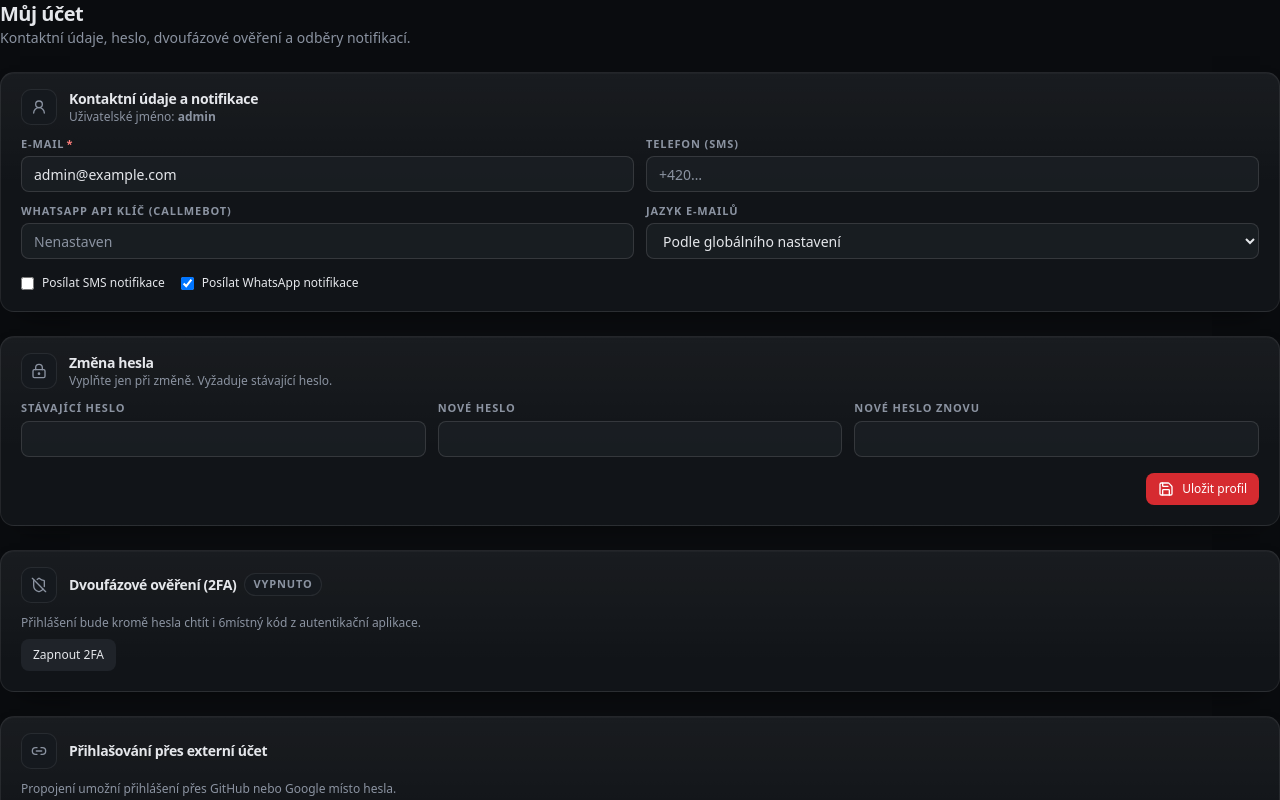
ProfilePage subscriptions › shows the WhatsApp boxes of the switch the profile save stored
The width and height of the screenshot is (1280, 800).
Click the checkbox labelled "Posílat WhatsApp notifikace" at [187, 283], box x1=181 y1=277 x2=194 y2=290
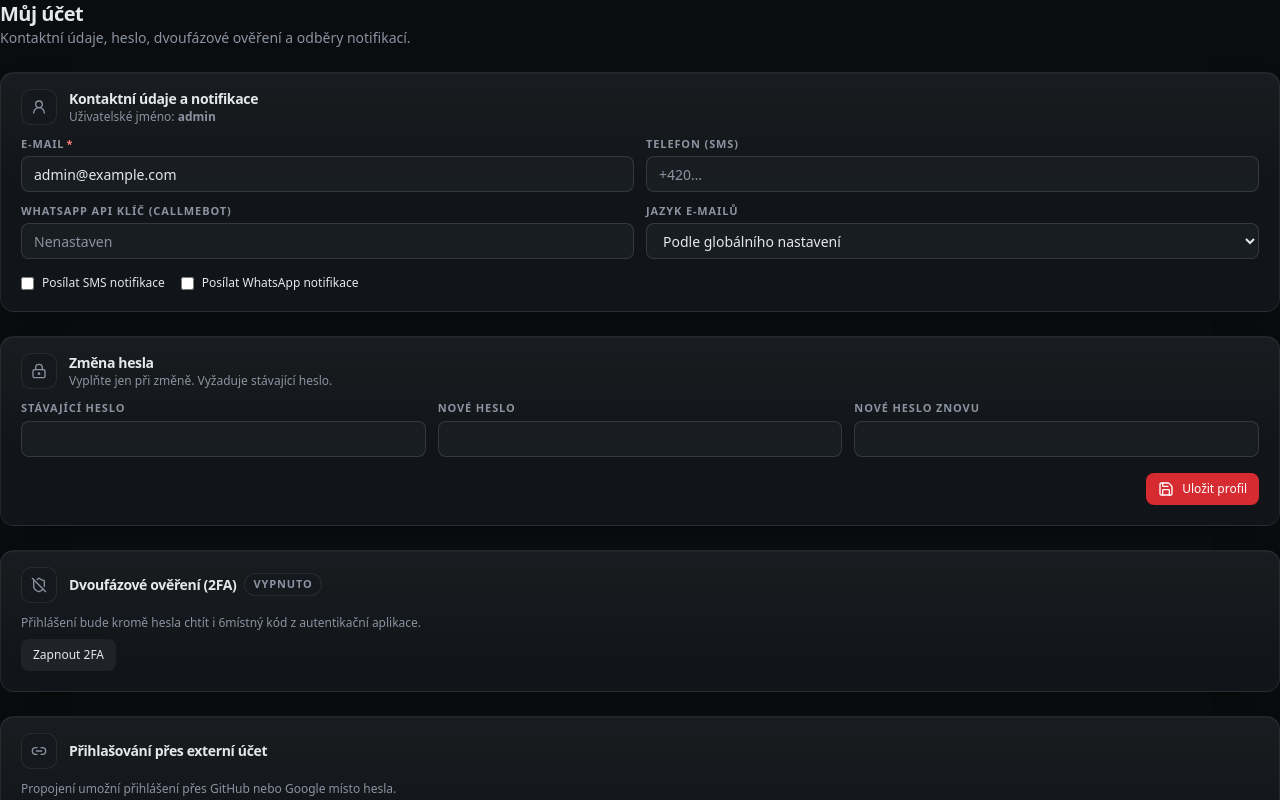
Click the button "Uložit profil" at [1203, 489], box x1=1146 y1=473 x2=1259 y2=505
(page scrolled)
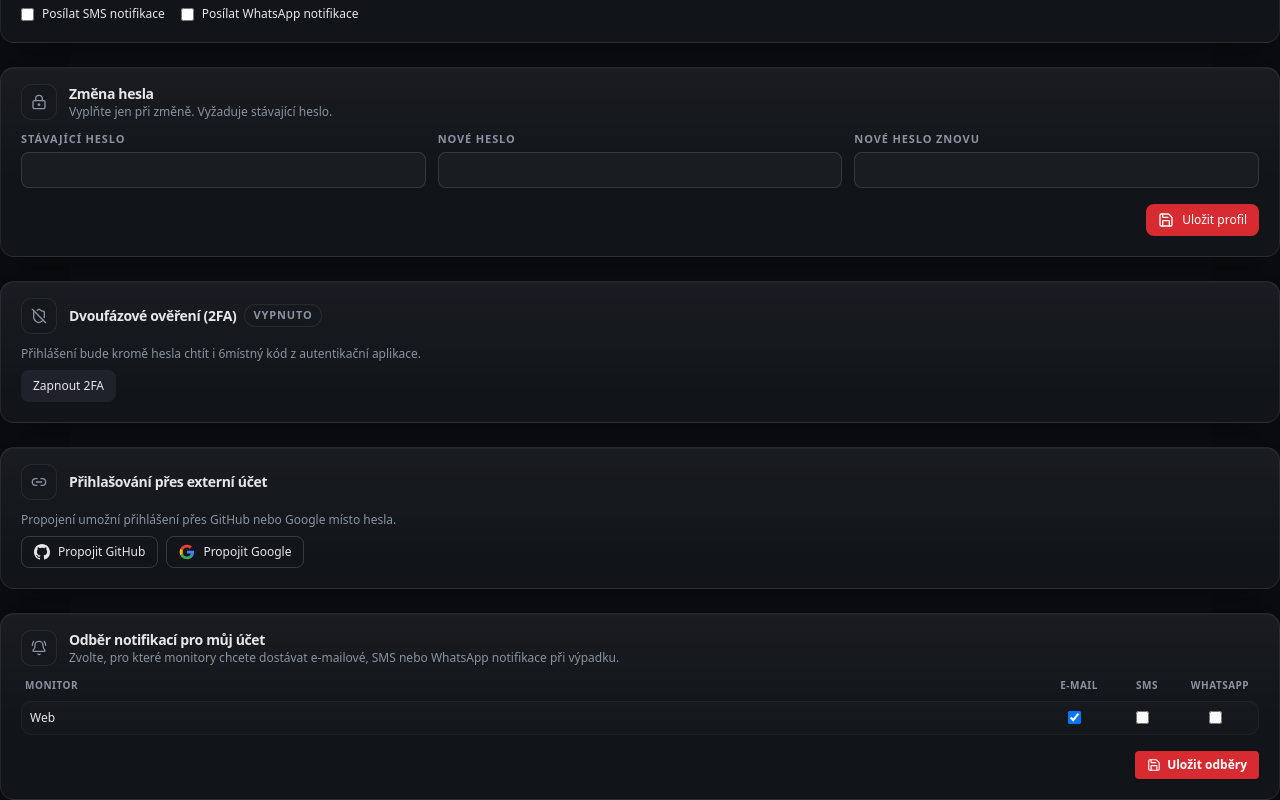
Now the 5th checkbox is not checked, box x1=1208 y1=711 x2=1222 y2=724
